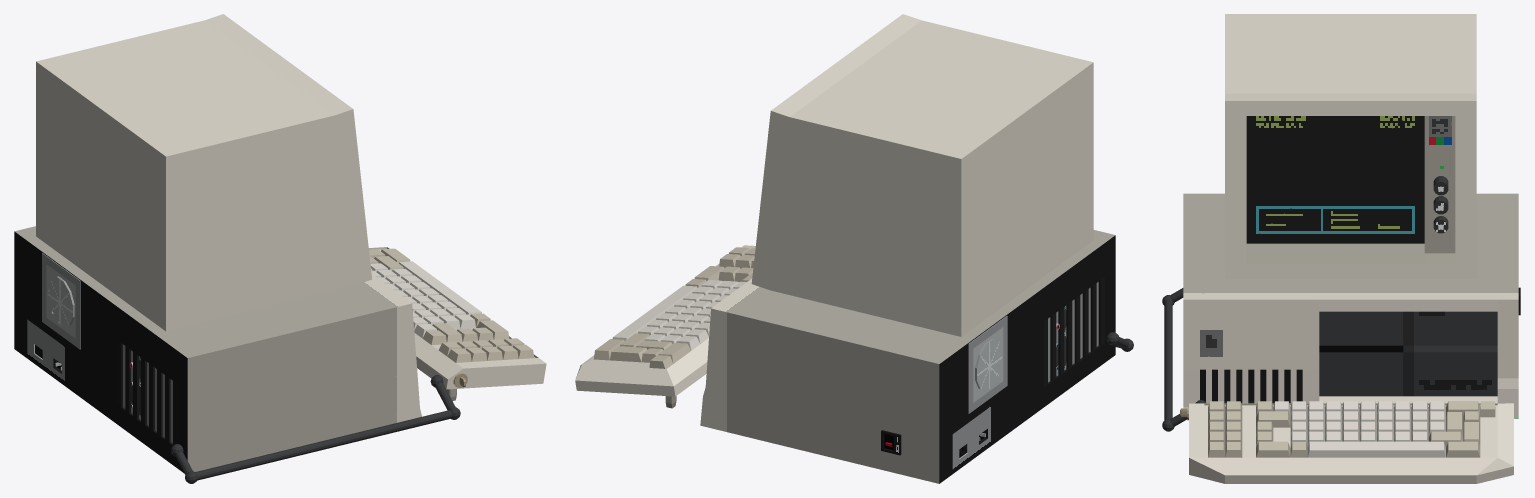
The picture shows the model from 3 angles, left to right: view 1: azimuth 30°, elevation 25°; view 2: azimuth 150°, elevation 25°; view 3: azimuth 270°, elevation 25°; orthographic projection. The views are drawn at different scales.
Parts seen in each view (by area): view 1: monitor_8, cuboid_selection_6, Teclado_10, venti_2; view 2: monitor_8, cuboid_selection_6, Teclado_10, venti_2; view 3: monitor_8, cuboid_selection_6, Teclado_10.
Part boxes in pixels (x1,y1,x2,y2): monitor_8: (36,14,372,331); cuboid_selection_6: (14,226,421,472); Teclado_10: (171,247,546,483); venti_2: (42,253,80,349); monitor_8: (751,14,1093,336); cuboid_selection_6: (700,230,1115,483); Teclado_10: (575,245,1133,408); venti_2: (968,316,1007,413); monitor_8: (1225,14,1476,278); cuboid_selection_6: (1183,193,1518,418); Teclado_10: (1162,288,1513,483).
Bounding box in the file's own units: 6.39 × 4.87 × 5.34.
Materials: 9 (9 with a texture image).
